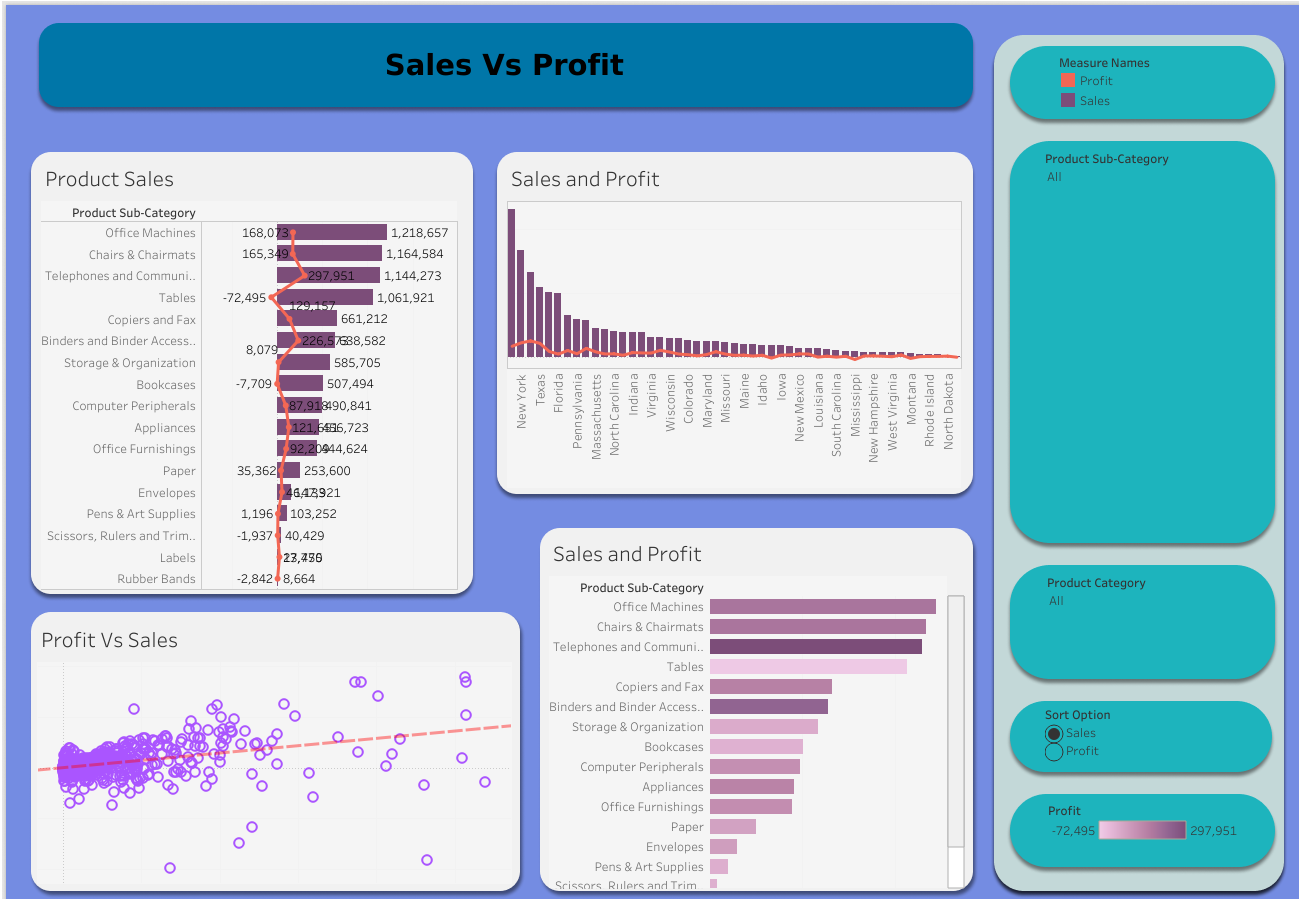

The page's visual inventory and layout, read from the dashboard file:
{"tool":"tableau","page":{"name":"Sales and Profit","canvas":[1300,900],"ordinal":3},"visuals":[{"type":"worksheet","param":"Image/Election (Copy) (1).png","box":[2,1,1298,899]},{"type":"worksheet","box":[51,29,907,71]},{"type":"worksheet","title":"State Vise Sales and Profit","mark":"Automatic","rows":["Sales","Profit"],"cols":["State or Province"],"param":"[federated.0ah176d0ox5uv51gbola01vk91ev].[:Measure Names]","box":[1058,51,180,61]},{"type":"worksheet","title":"Subcategory Sales and Profit","mark":"Automatic","rows":["Product Sub-Category"],"cols":["Sales","Profit"],"param":"[federated.0ah176d0ox5uv51gbola01vk91ev].[none:Product Sub-Category:nk]","box":[1045,148,195,390]},{"type":"worksheet","title":"Subcategory Sales and Profit","mark":"Automatic","rows":["Product Sub-Category"],"cols":["Sales","Profit"],"box":[41,158,417,432]},{"type":"worksheet","title":"State Vise Sales and Profit","mark":"Automatic","rows":["Sales","Profit"],"cols":["State or Province"],"box":[507,158,455,331]},{"type":"worksheet","title":"Sales Vs Profit","mark":"Automatic","rows":["Product Sub-Category"],"cols":["Sales"],"box":[549,533,416,355]},{"type":"worksheet","title":"Subcategory Sales and Profit","mark":"Automatic","rows":["Product Sub-Category"],"cols":["Sales","Profit"],"param":"[federated.0ah176d0ox5uv51gbola01vk91ev].[none:Product Category:nk]","box":[1047,572,191,100]},{"type":"worksheet","title":"Sales Vs Profit with trend line","mark":"Automatic","rows":["Profit"],"cols":["Sales"],"box":[37,619,474,264]},{"type":"worksheet","param":"[Parameters].[Parameter 2]","box":[1045,704,195,62]},{"type":"worksheet","title":"Sales Vs Profit","mark":"Automatic","rows":["Product Sub-Category"],"cols":["Sales"],"param":"[federated.0ah176d0ox5uv51gbola01vk91ev].[sum:Profit:qk]","box":[1048,797,194,72]}]}

Visuals, with their boxes in screenshot pixels (x1, y1, x2, y2), scaled from the page's 1300x900 canvas onto the 1299x899 screenshot:
worksheet: 2 1 1298 898
worksheet: 51 29 957 100
"State Vise Sales and Profit" worksheet: 1057 51 1237 112
"Subcategory Sales and Profit" worksheet: 1044 148 1239 537
"Subcategory Sales and Profit" worksheet: 41 158 458 589
"State Vise Sales and Profit" worksheet: 507 158 961 488
"Sales Vs Profit" worksheet: 549 532 964 887
"Subcategory Sales and Profit" worksheet: 1046 571 1237 671
"Sales Vs Profit with trend line" worksheet: 37 618 511 882
worksheet: 1044 703 1239 765
"Sales Vs Profit" worksheet: 1047 796 1241 868
